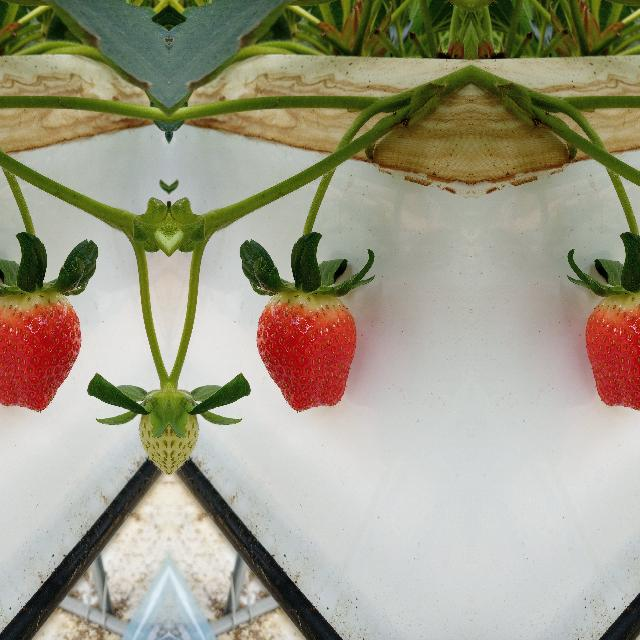Health_100: (255, 292, 357, 412), (0, 292, 81, 412), (584, 292, 640, 412)
